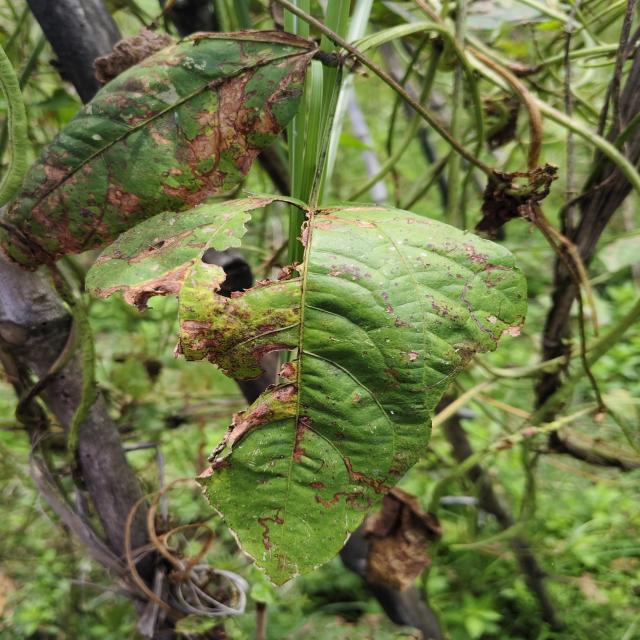leaf-moderate: (86, 191, 526, 585), (0, 29, 320, 270), (339, 487, 443, 640), (596, 358, 616, 409)
